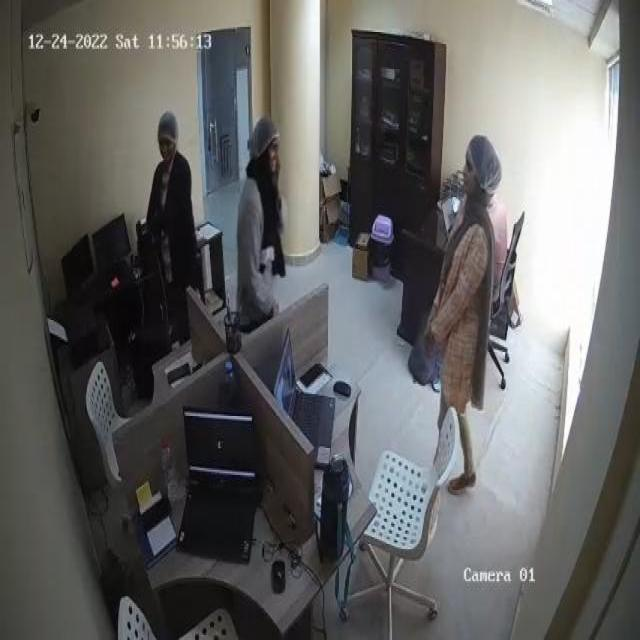hairnet: (466, 136, 504, 187), (248, 118, 277, 158), (159, 112, 178, 144)
